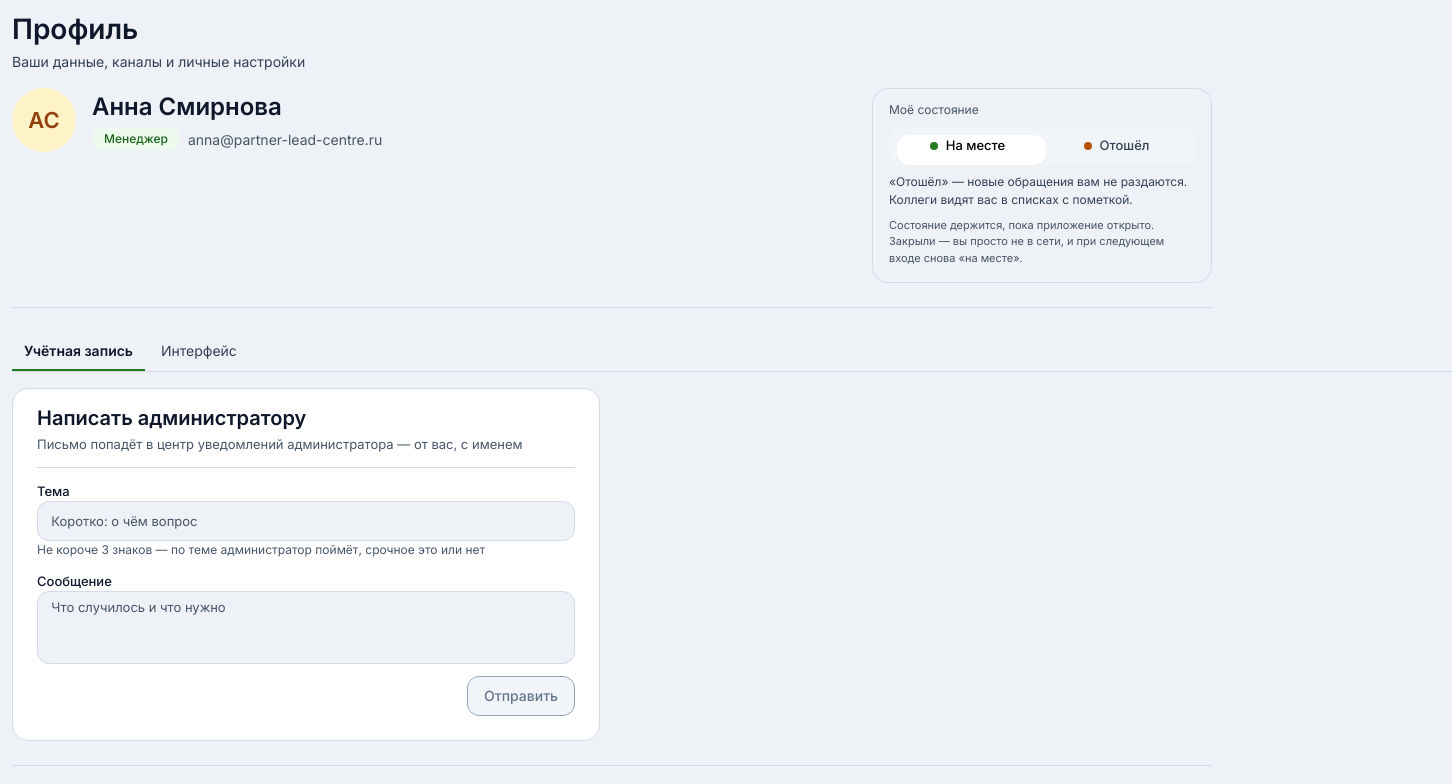
Test case: Форма «Написать администратору» (14 §2.2) › кнопка не активна, пока темы и текста нет — 422 ловить нечем
The image size is (1452, 784).
Expected: the button "Отправить" is disabled, [467,676,575,716]
Type "ой" into the field labelled "Тема".
click(306, 521); type("ой")  # box [37,501,575,541]
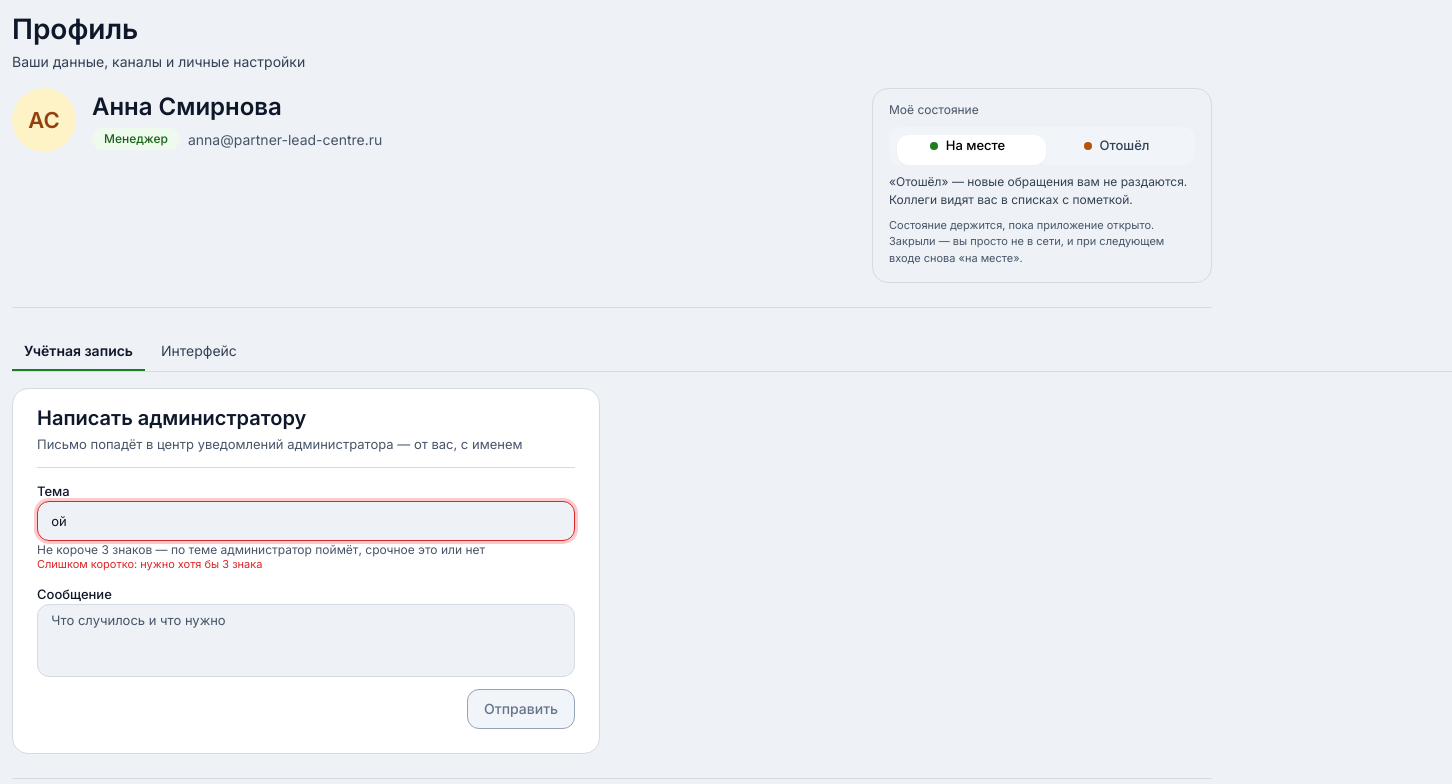
Expected: the button "Отправить" is disabled, [467,689,575,729]
Type "-ой" into the field labelled "Тема".
click(306, 521); type("-ой")  # box [37,501,575,541]
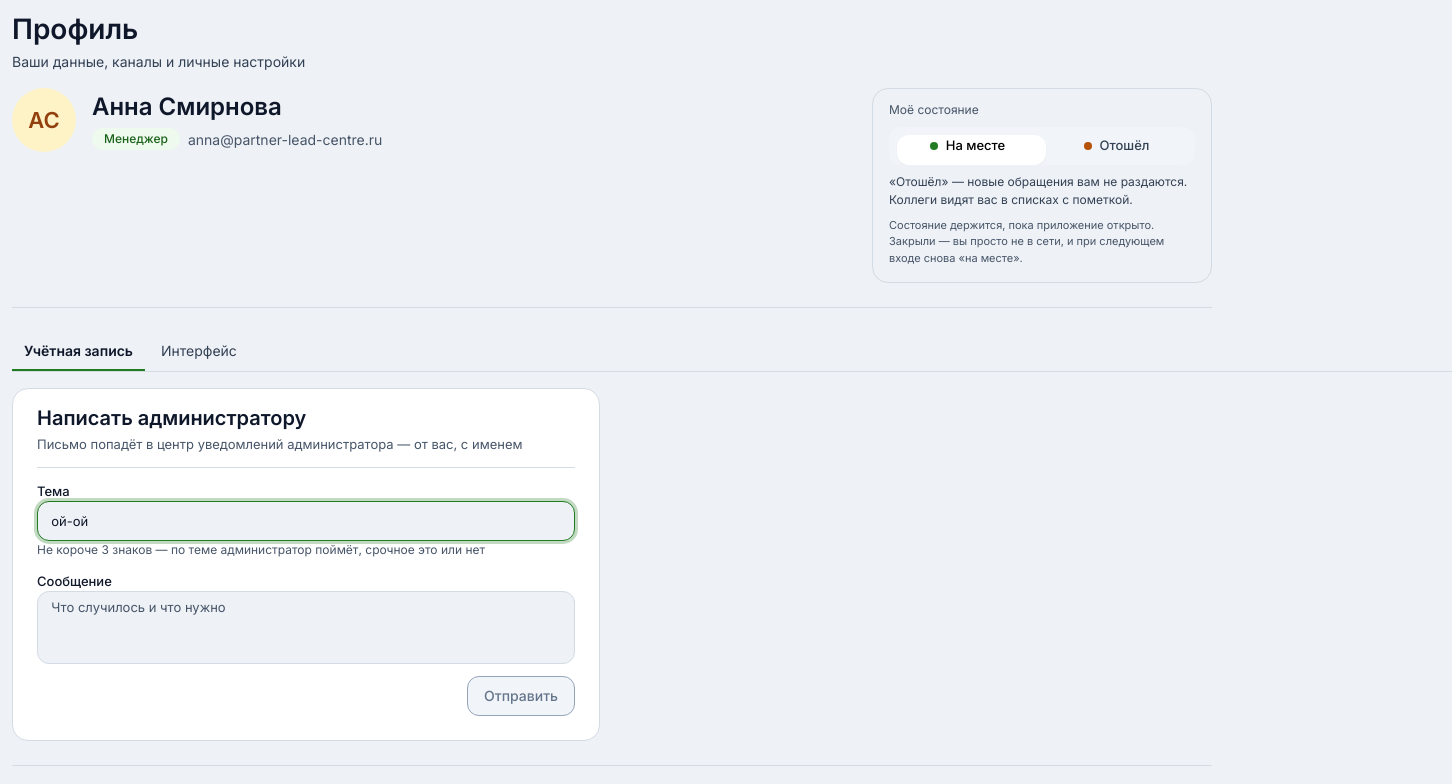
Expected: the button "Отправить" is disabled, [467,676,575,716]
Type "текст" into the text box labelled "Сообщение".
click(306, 628); type("текст")  # box [37,591,575,664]
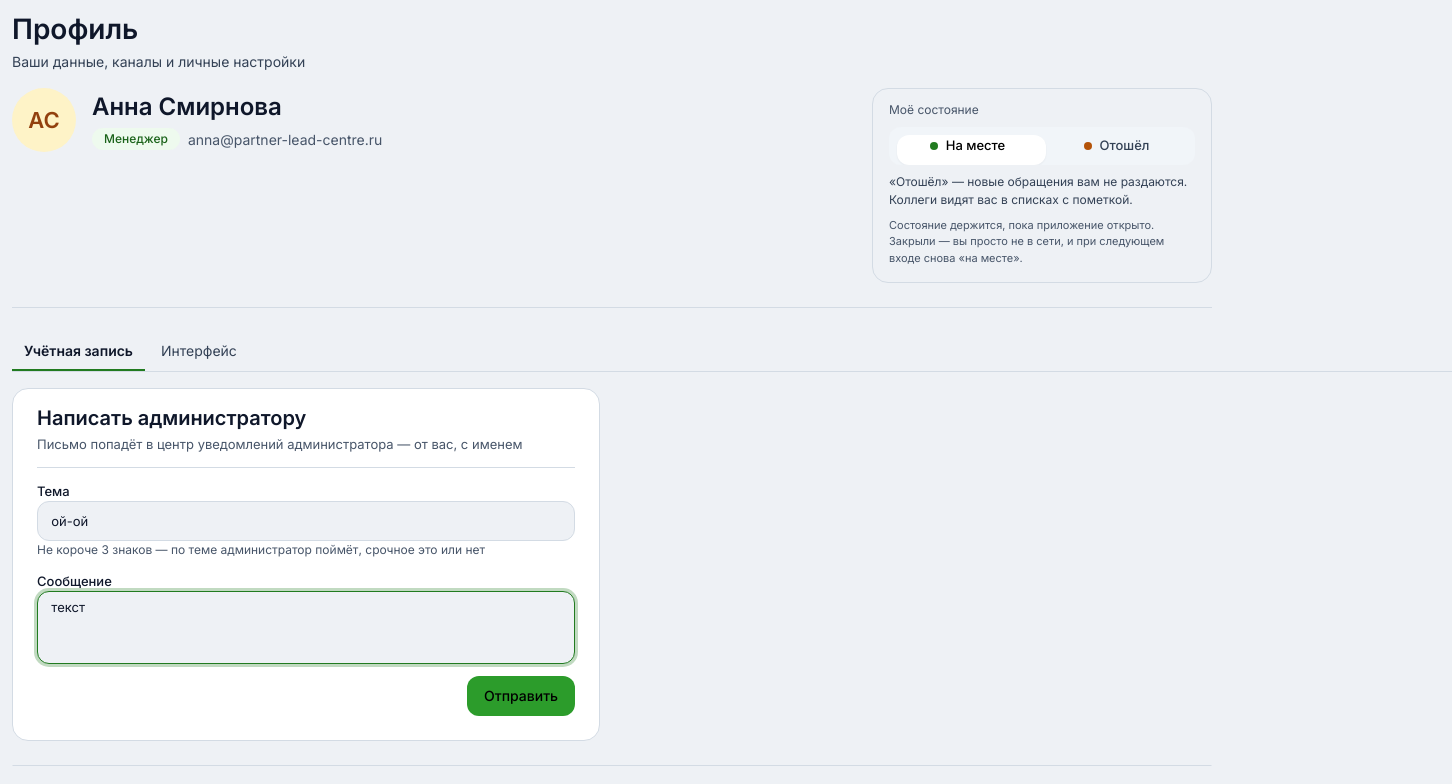
Expected: the button "Отправить" is enabled, [467,676,575,716]
